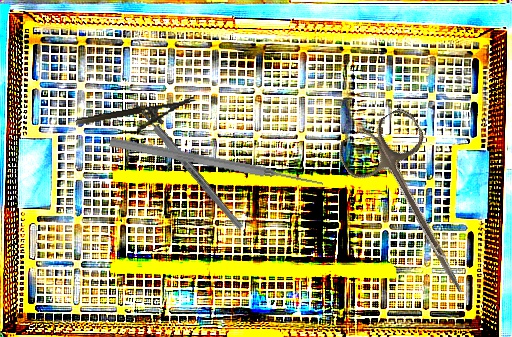Iris Scissors: (332, 103, 502, 312)
Needle Holder: (74, 96, 200, 142)
Pusher: (108, 135, 325, 191)
Scalpel Handle: (132, 101, 245, 232)
